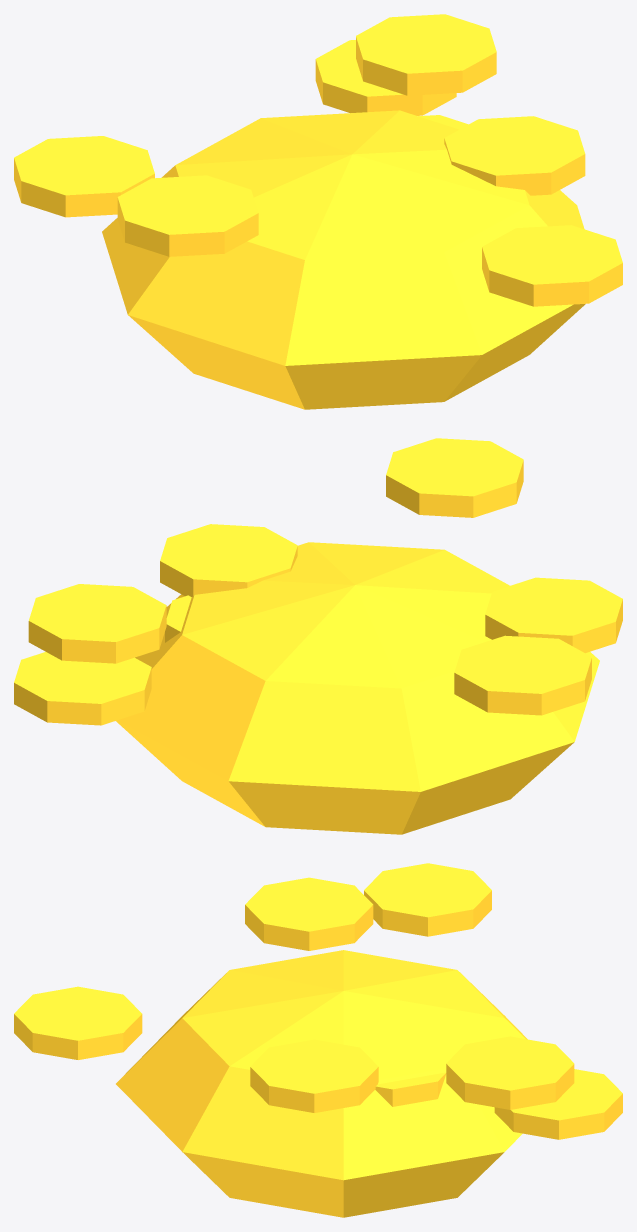
File: GoldPile.fbx
3 renders of one model, top to bottom at view 1: azimuth 30°, elevation 25°; view 2: azimuth 150°, elevation 25°; view 3: azimuth 270°, elevation 25°, orthographic. The views are drawn at different scales.
Parts seen in each view (by area): view 1: Coins; view 2: Coins; view 3: Coins.
Boxes of the visible parts, x1,y1,x2,y2 form: Coins: (14,14,622,409); Coins: (14,438,622,834); Coins: (14,863,622,1217).
Bounding box in the file's own units: 0.7336 × 0.2995 × 0.8547.
